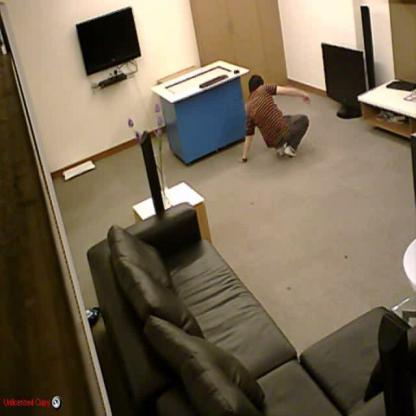Person: (238, 76, 312, 163)
